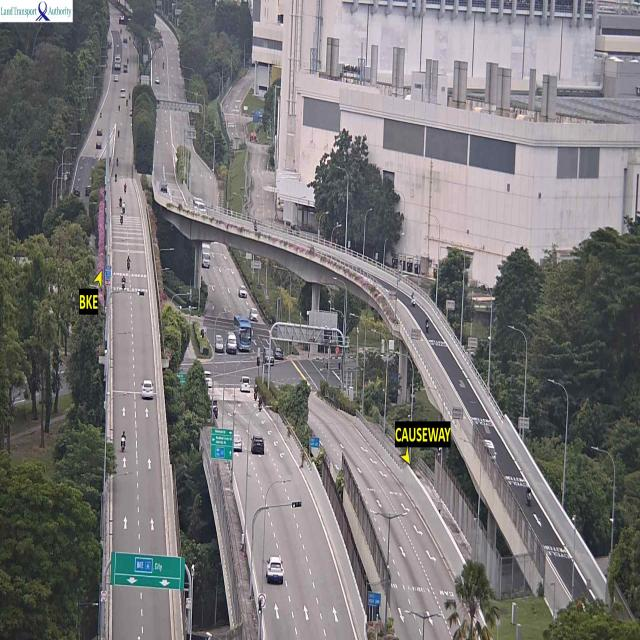-vehicles: (266, 555, 284, 585), (238, 318, 254, 350), (262, 341, 276, 371), (141, 376, 155, 402), (252, 434, 267, 458), (240, 370, 254, 395), (230, 432, 243, 454), (228, 335, 238, 356), (214, 334, 224, 353)
